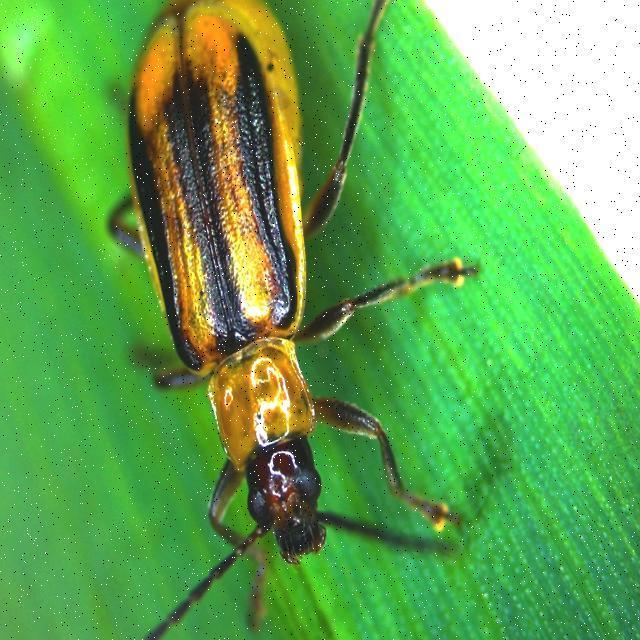trips: (106, 0, 480, 640)
